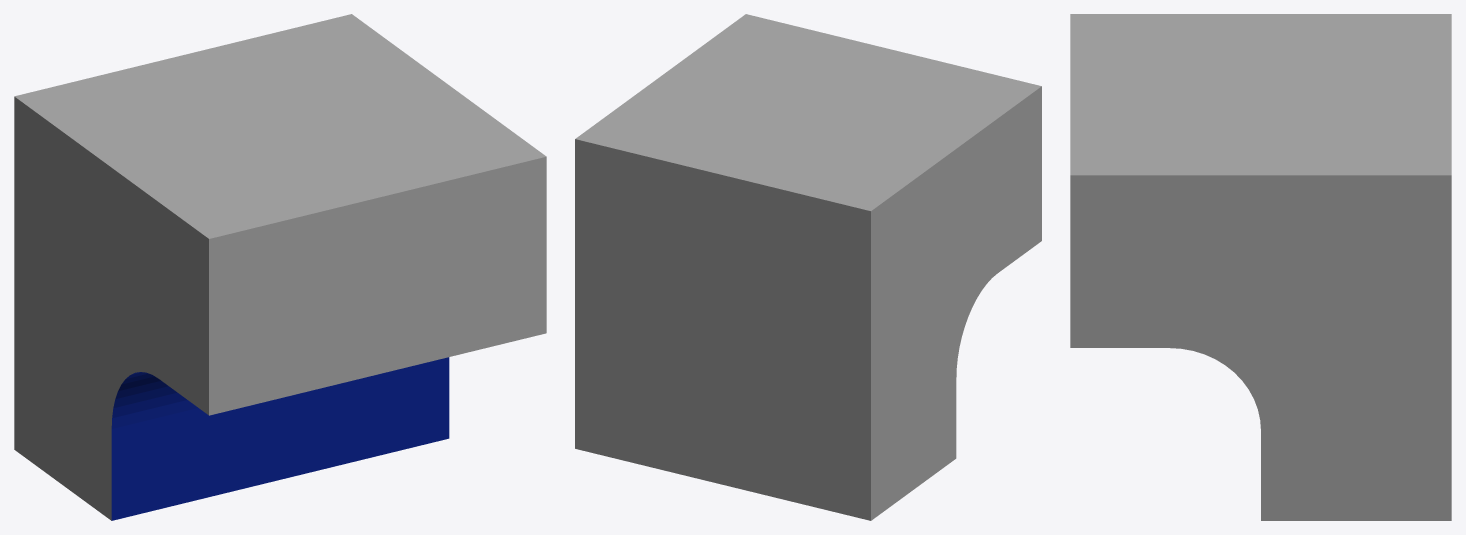
File: case_243.fbx
3 renders of one model, left to right at view 1: azimuth 30°, elevation 25°; view 2: azimuth 150°, elevation 25°; view 3: azimuth 270°, elevation 25°, orthographic. The views are drawn at different scales.
Visible parts, largest first — view 1: case_243; view 2: case_243; view 3: case_243.
Boxes of the visible parts, x1,y1,x2,y2 form: case_243: (14,14,546,520); case_243: (575,14,1041,520); case_243: (1070,14,1451,520).
Bounding box in the file's own units: 100 × 100 × 100.
